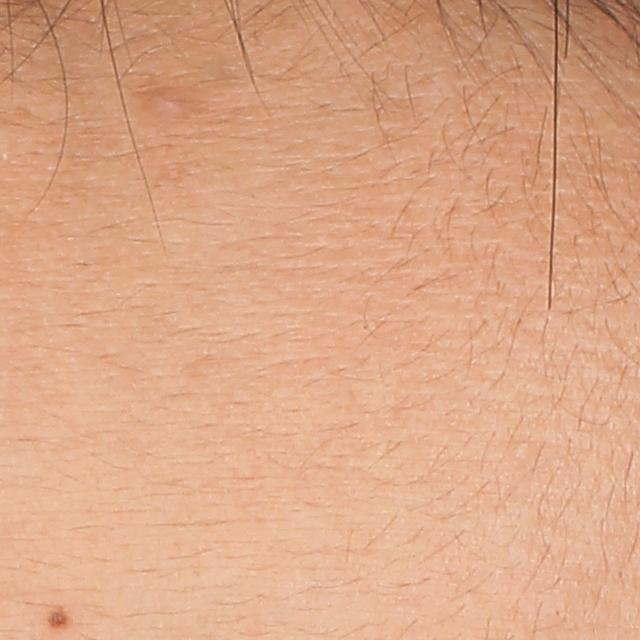nevus: (44, 602, 73, 631)
